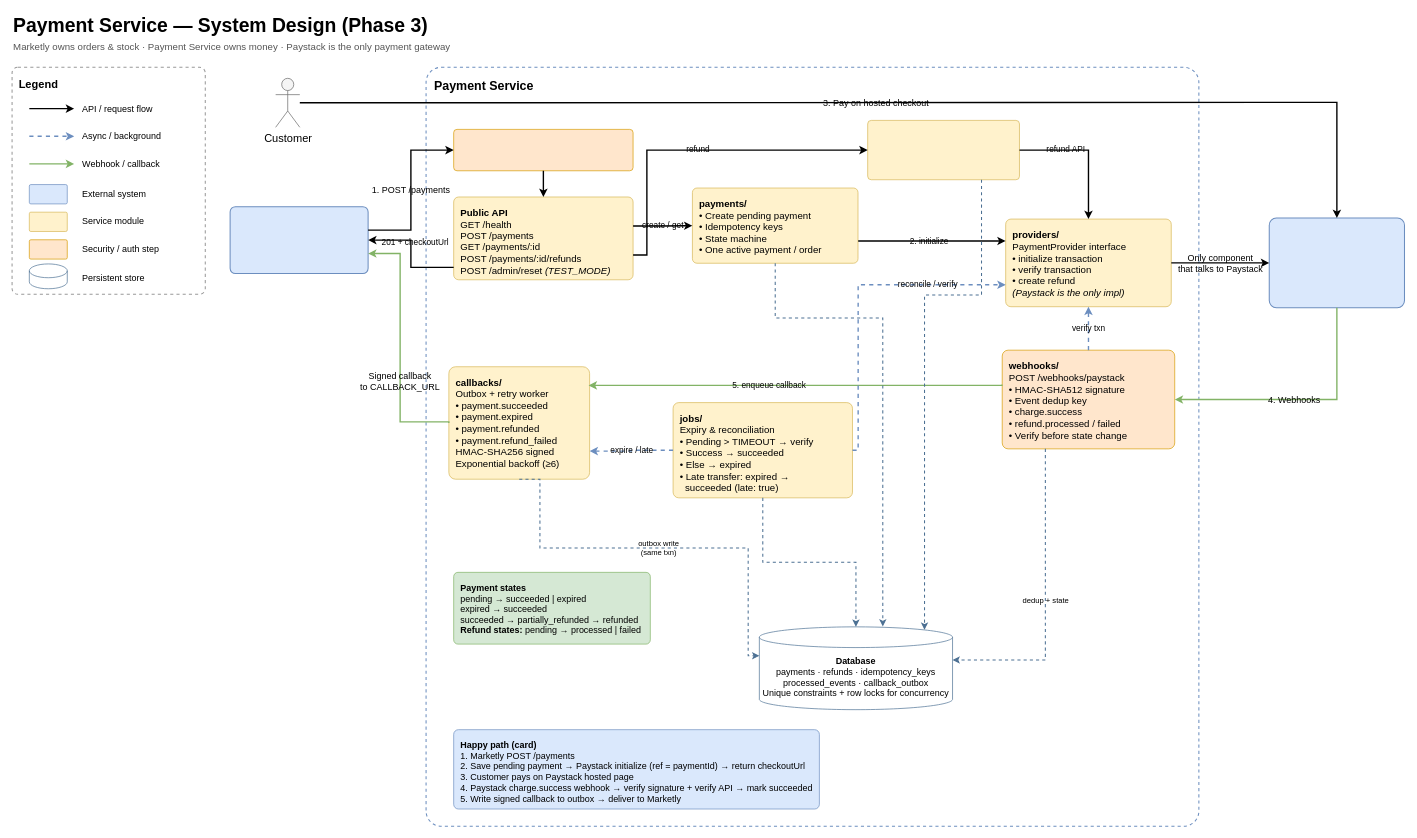
Image size: 1417x838. Some labels were removed from this diagram. Each missing label, with the centre of its shape:
"Bearer MERCHANT_API_KEY (required on all merchant APIs)" goes at (x=543, y=150).
"Marketly (Online Store) Orders · Stock · Cart" goes at (x=298, y=240).
"Paystack (Test Mode) Hosted Checkout Card · Bank Transfer" goes at (x=1336, y=262).
"refunds/ • Full / partial refunds • Balance reservation • Idempotent creates" goes at (x=943, y=150).
